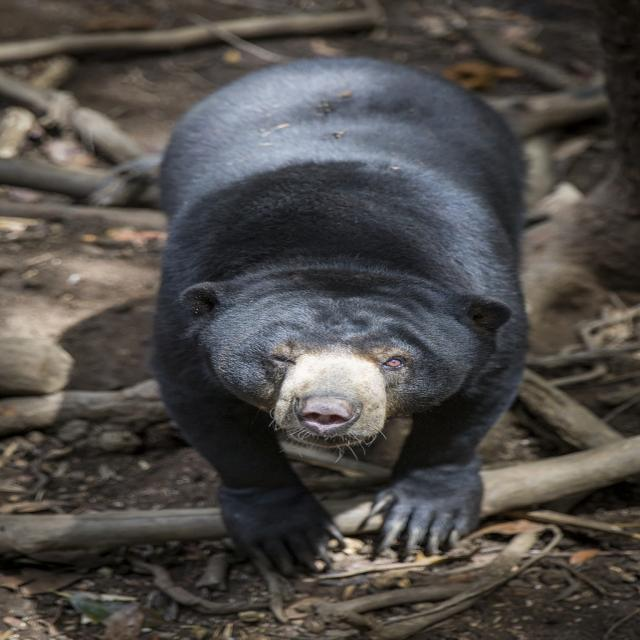Bear: (154, 56, 530, 578)
